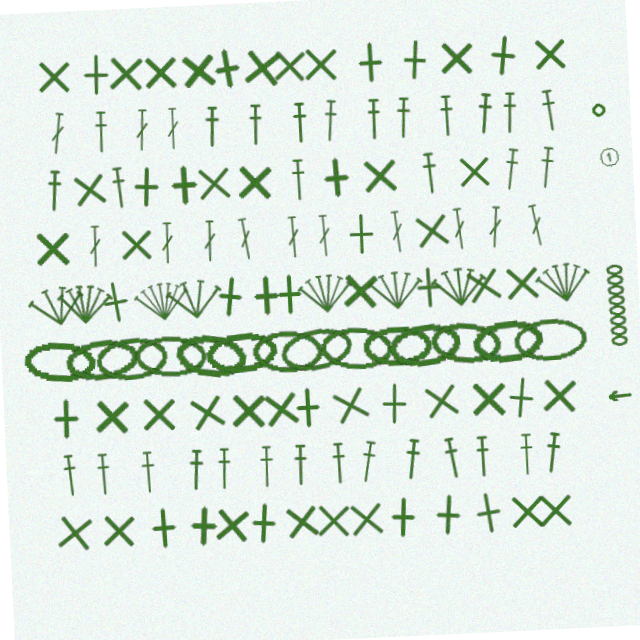chain: (276, 323, 355, 376), (171, 324, 247, 376), (427, 325, 503, 375), (385, 325, 461, 374), (62, 326, 138, 374), (20, 326, 95, 374), (93, 326, 168, 373), (202, 326, 277, 373), (318, 326, 393, 373), (469, 326, 543, 373), (132, 327, 207, 372), (512, 328, 587, 372), (250, 327, 322, 372), (361, 329, 432, 371)
double: (530, 214, 551, 257), (57, 100, 76, 143), (240, 214, 259, 257), (393, 214, 410, 257), (455, 214, 472, 257), (491, 214, 508, 257), (143, 101, 159, 143), (206, 215, 221, 257), (290, 215, 305, 257), (321, 215, 336, 257), (175, 101, 189, 143), (92, 215, 106, 257), (164, 215, 178, 257)
enseble_chain: (606, 278, 629, 362)
fan: (27, 268, 89, 318), (535, 269, 595, 317), (133, 269, 193, 316), (166, 269, 225, 316), (298, 270, 356, 315), (432, 270, 490, 315), (369, 270, 426, 315), (58, 271, 115, 314)
half_double: (350, 442, 373, 486), (435, 442, 457, 486), (507, 157, 529, 200), (535, 442, 557, 485), (543, 157, 564, 200), (395, 442, 416, 485), (484, 100, 504, 143), (549, 100, 569, 143), (330, 100, 349, 143), (51, 157, 70, 200), (116, 157, 135, 200), (54, 442, 73, 485), (428, 157, 446, 200), (212, 101, 230, 143), (404, 101, 422, 143), (510, 101, 528, 143), (180, 443, 198, 485), (256, 101, 273, 143), (88, 443, 105, 485), (133, 443, 150, 485), (209, 443, 226, 485), (285, 443, 302, 485), (102, 101, 118, 143), (301, 101, 317, 143), (375, 101, 391, 143), (448, 101, 464, 143), (297, 158, 313, 200), (252, 443, 268, 485), (324, 443, 340, 485), (468, 443, 484, 485), (512, 443, 528, 485)
noise: (604, 158, 629, 183), (600, 115, 617, 132), (602, 404, 628, 415)
single: (321, 381, 372, 432), (250, 41, 298, 89), (461, 269, 509, 317), (179, 383, 227, 431), (41, 497, 89, 545), (215, 41, 262, 88), (492, 41, 539, 88), (93, 269, 140, 316), (208, 269, 255, 316), (414, 383, 461, 430), (199, 497, 246, 544), (456, 497, 503, 544), (73, 156, 119, 202), (413, 213, 459, 259), (254, 384, 300, 430), (494, 384, 540, 430), (115, 42, 160, 87), (279, 42, 324, 87), (404, 42, 449, 87), (339, 270, 384, 315), (85, 384, 130, 429), (533, 384, 578, 429), (172, 498, 217, 543), (232, 498, 277, 543), (270, 498, 315, 543), (416, 498, 461, 543), (188, 43, 232, 87), (131, 157, 175, 201), (239, 157, 283, 201), (222, 385, 266, 429), (368, 385, 412, 429), (87, 499, 131, 543), (302, 499, 346, 543), (335, 499, 379, 543), (372, 499, 416, 543), (44, 43, 87, 86), (86, 43, 129, 86), (311, 43, 354, 86), (447, 43, 490, 86), (199, 157, 242, 200), (321, 157, 364, 200), (365, 157, 408, 200), (409, 271, 452, 314), (502, 271, 545, 314), (133, 385, 176, 428), (463, 385, 506, 428), (133, 499, 176, 542), (151, 44, 193, 86), (361, 44, 403, 86), (541, 44, 583, 86), (170, 158, 212, 200), (460, 158, 502, 200), (35, 215, 77, 257), (119, 215, 161, 257), (344, 215, 386, 257), (246, 272, 288, 314), (270, 272, 312, 314), (41, 386, 83, 428), (283, 386, 325, 428), (497, 500, 539, 542), (525, 500, 567, 542)
